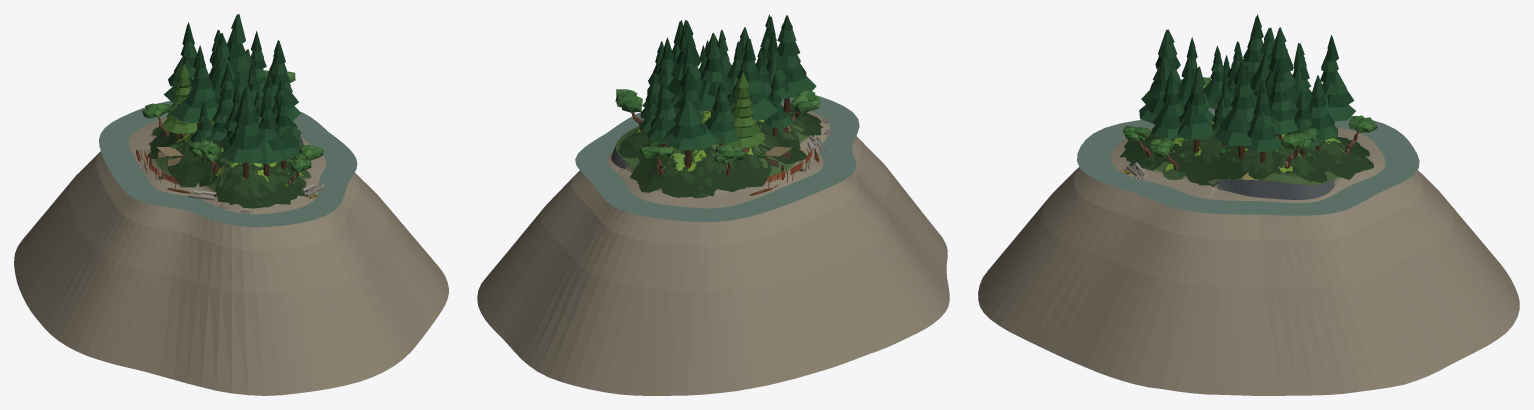
File: chunk_2_2.glb
3 renders of one model, left to right at view 1: azimuth 30°, elevation 25°; view 2: azimuth 150°, elevation 25°; view 3: azimuth 270°, elevation 25°, orthographic. The views are drawn at different scales.
Parts seen in each view (by area): view 1: chunk_2_2; view 2: chunk_2_2; view 3: chunk_2_2.
Boxes of the visible parts, x1=… form: chunk_2_2: x1=14, y1=14, x2=448, y2=395; chunk_2_2: x1=477, y1=14, x2=949, y2=395; chunk_2_2: x1=978, y1=14, x2=1519, y2=395.
Size of the model in its own units: 81.21 by 55.39 by 94.96.
